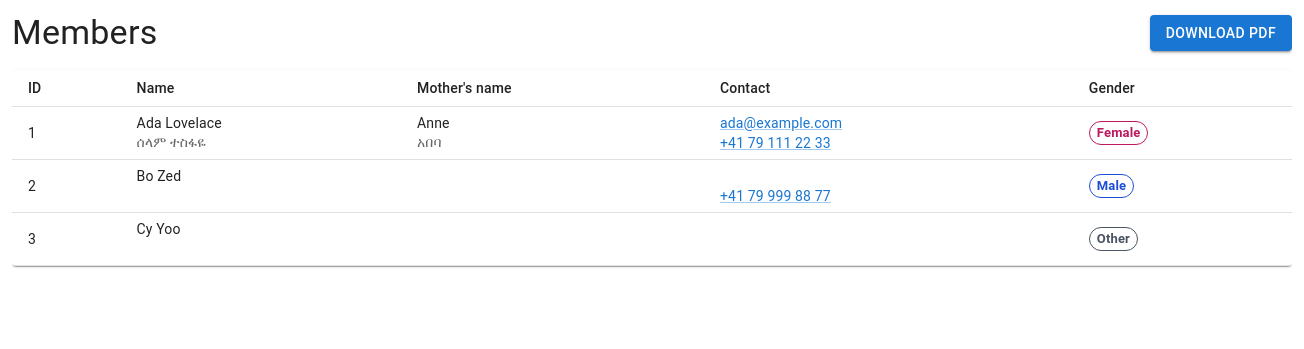
Test: MembersPage › shows an Alert when the PDF download fails
The width and height of the screenshot is (1304, 349).
Expected: the text "Ada Lovelace" is shown, [137, 115, 222, 131]
Click the button "Download PDF": (1221, 33) [1150, 15, 1292, 51]
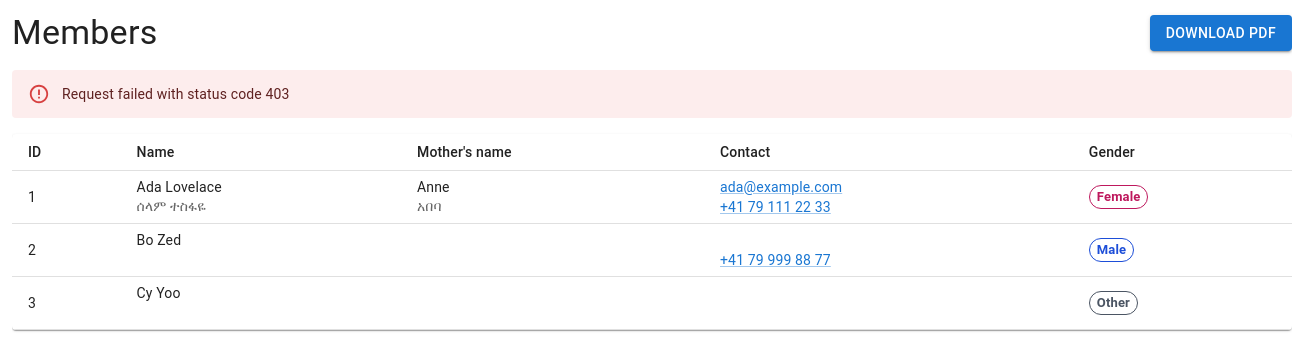
Result: the text "Request failed with status code 403" is shown at [62, 86, 290, 102]
